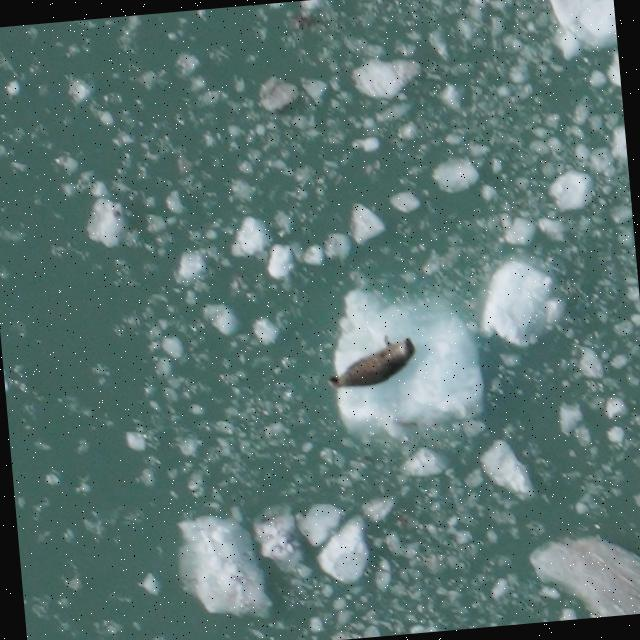seal: (321, 328, 423, 394)
